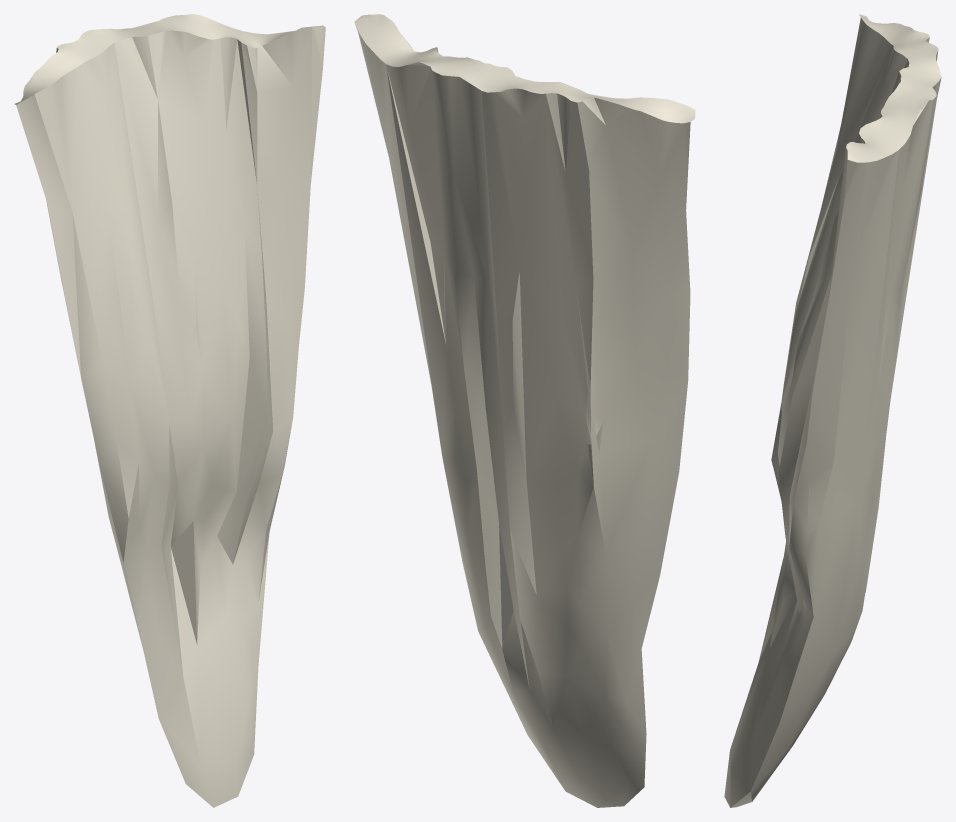
File: fma25020_mm1517.glb
The picture shows the model from 3 angles, left to right: view 1: azimuth 30°, elevation 25°; view 2: azimuth 150°, elevation 25°; view 3: azimuth 270°, elevation 25°; orthographic projection. The views are drawn at different scales.
Parts seen in each view (by area): view 1: FMA25020_MM1517; view 2: FMA25020_MM1517; view 3: FMA25020_MM1517.
Boxes of the visible parts, <box> form: FMA25020_MM1517: <box>14,14,325,807</box>; FMA25020_MM1517: <box>354,14,695,807</box>; FMA25020_MM1517: <box>724,14,941,807</box>.
Bounding box in the file's own units: 0.00613 × 0.0137 × 0.00365.
